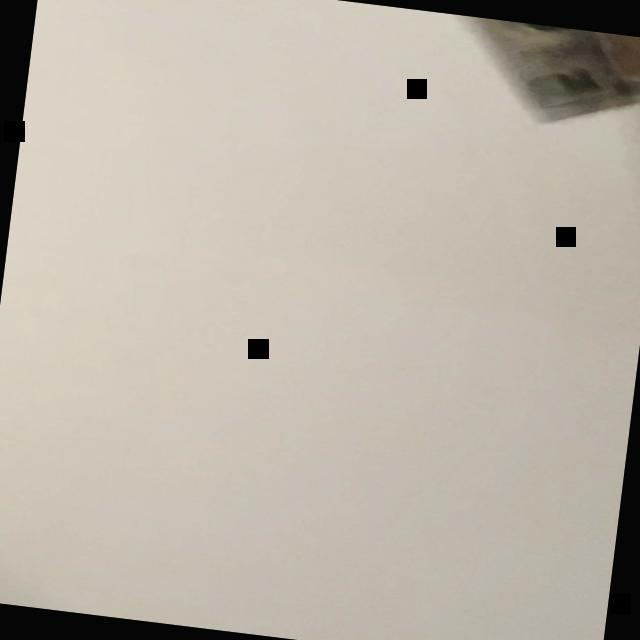hundred: (453, 14, 640, 126)
